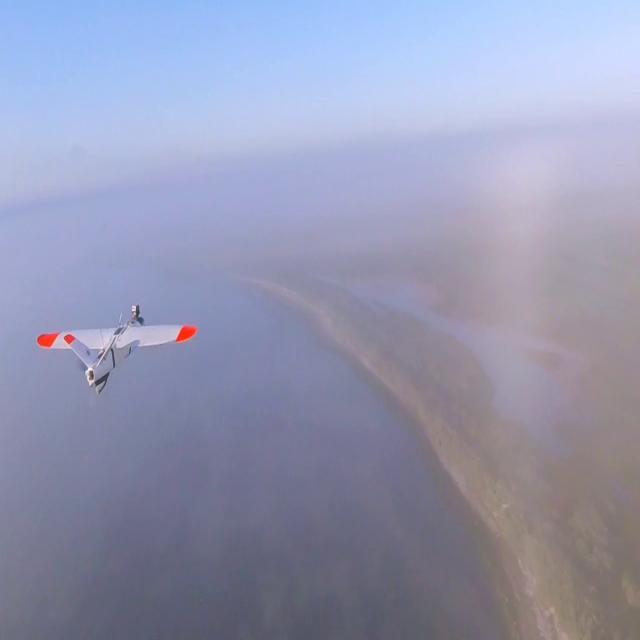iha: (0, 338, 135, 362)
